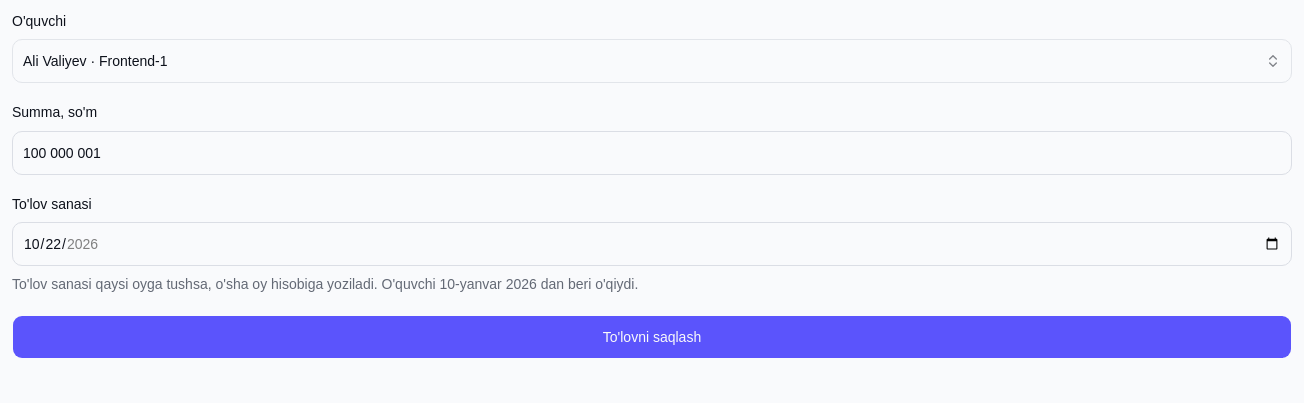
Test: PaymentForm › 100 mln dan katta summani rad etadi
Click the button "To'lovni saqlash": point(652, 337) [12,315,1292,359]
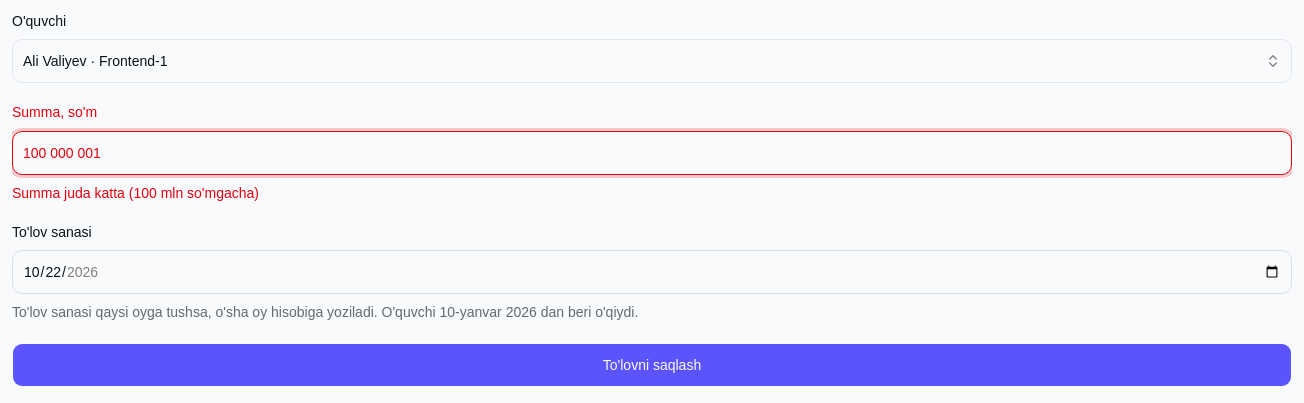
Result: the text "Summa juda katta (100 mln so'mgacha)" is shown at [12,184,259,200]
